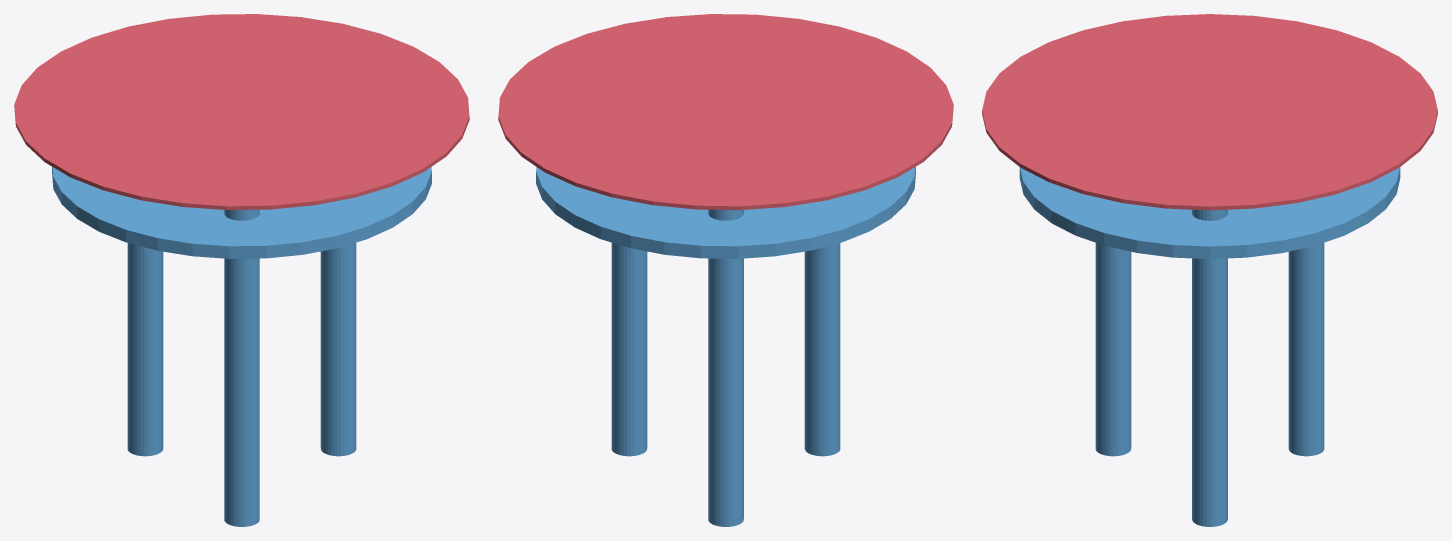
File: table.glb
3 views of the same model, side by side, from view 1: azimuth 30°, elevation 25°; view 2: azimuth 150°, elevation 25°; view 3: azimuth 270°, elevation 25° (orthographic).
Parts seen in each view (by area): view 1: 円柱, 円柱.001, 円柱.004, 円柱.002, 円柱.003; view 2: 円柱, 円柱.001, 円柱.003, 円柱.002, 円柱.004; view 3: 円柱, 円柱.001, 円柱.002, 円柱.004, 円柱.003.
Part boxes in pixels (<box>): 円柱: <box>14,14,469,209</box>; 円柱.001: <box>52,167,431,258</box>; 円柱.004: <box>224,209,259,526</box>; 円柱.002: <box>320,242,356,456</box>; 円柱.003: <box>127,243,163,456</box>; 円柱: <box>498,14,953,209</box>; 円柱.001: <box>536,167,915,258</box>; 円柱.003: <box>708,209,743,526</box>; 円柱.002: <box>611,242,647,456</box>; 円柱.004: <box>804,243,840,456</box>; 円柱: <box>982,14,1437,210</box>; 円柱.001: <box>1019,167,1400,259</box>; 円柱.002: <box>1192,209,1227,526</box>; 円柱.004: <box>1095,243,1131,456</box>; 円柱.003: <box>1288,243,1324,456</box>.
Bounding box in the file's own units: 6.38 × 5.59 × 6.38.
